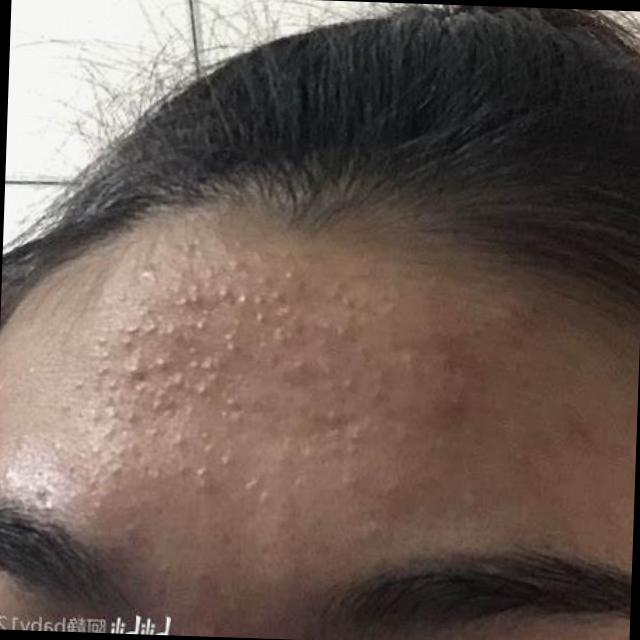fungal: (72, 265, 390, 520)
